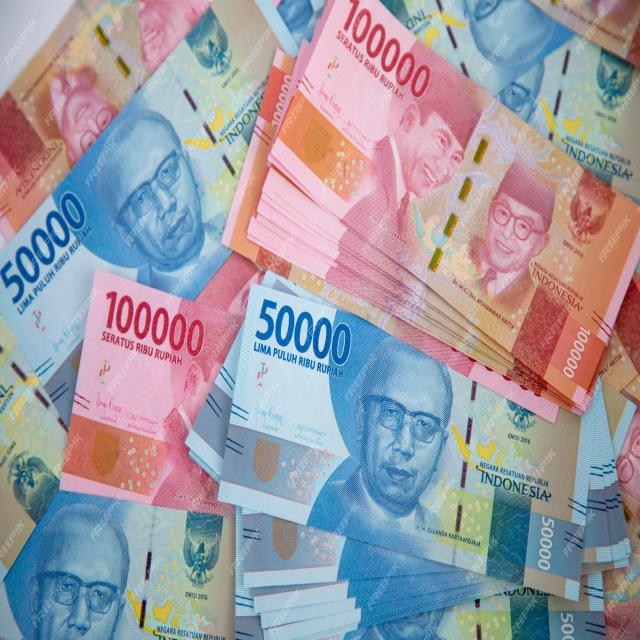lima puluh ribu rupiah: (217, 281, 601, 603), (0, 488, 235, 640)
seratus ribu rupiah: (262, 0, 640, 414), (220, 48, 561, 429), (57, 269, 245, 516)
